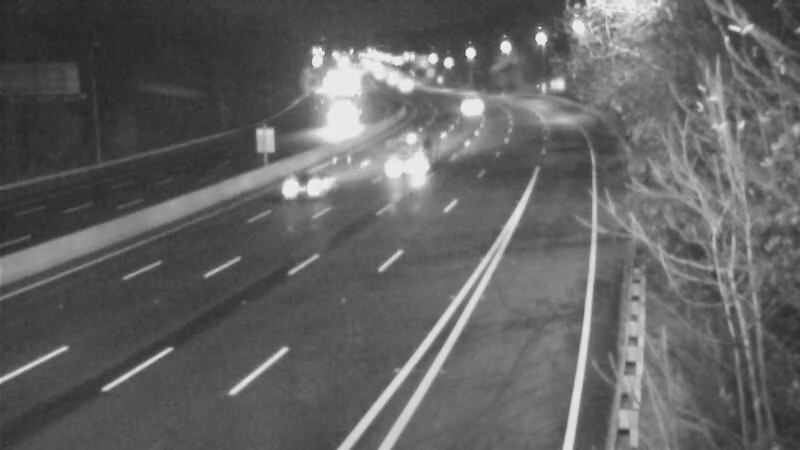vehicle: (272, 142, 352, 222), (444, 80, 494, 130), (404, 109, 454, 159), (307, 98, 357, 148)
